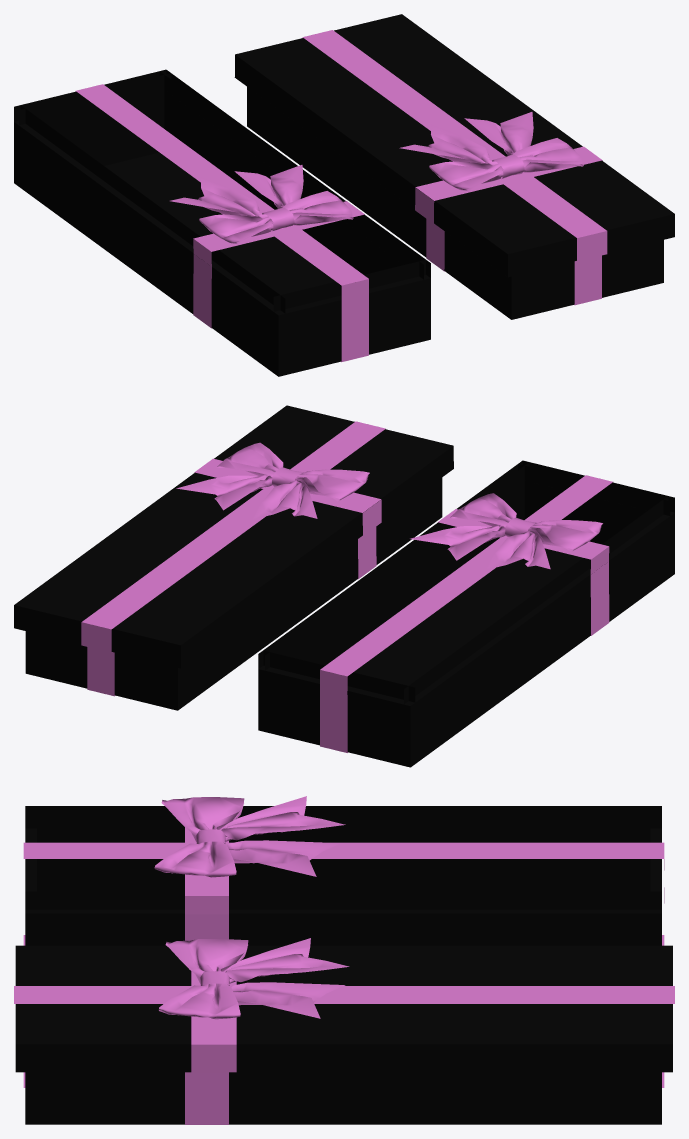
File: Squid Game Coffin V1.fbx
3 views of the same model, one above another, from view 1: azimuth 30°, elevation 25°; view 2: azimuth 150°, elevation 25°; view 3: azimuth 270°, elevation 25° (orthographic). The views are drawn at different scales.
Visible parts, largest first — view 1: Plan.010, Cube.001, Bow, Cube.007; view 2: Plan.010, Cube.001, Bow, Cube.007; view 3: Plan.010, Cube.001, Bow, Cube.007.
Part boxes in pixels (x1,y1,x2,y2): Plan.010: [234, 14, 674, 277]; Cube.001: [14, 90, 430, 376]; Bow: [14, 69, 430, 315]; Cube.007: [247, 87, 663, 319]; Plan.010: [14, 405, 453, 668]; Cube.001: [258, 481, 674, 767]; Bow: [258, 460, 674, 705]; Cube.007: [25, 477, 442, 710]; Plan.010: [14, 938, 674, 1072]; Cube.001: [23, 828, 664, 945]; Bow: [23, 796, 664, 914]; Cube.007: [23, 1072, 664, 1124].
Bounding box in the file's own units: 1036 × 226 × 1250.
